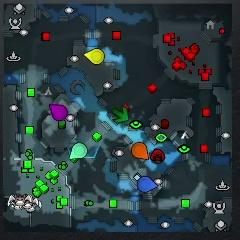p1: (137, 176, 158, 193)
p2: (69, 142, 88, 161)
p3: (48, 103, 69, 121)
p4: (83, 46, 106, 66)
p5: (131, 142, 149, 160)
x4: (112, 107, 129, 123)
